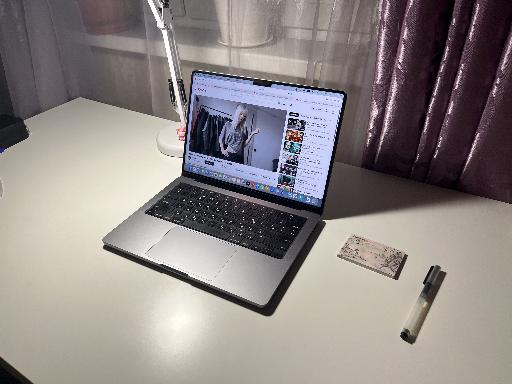youtube: (178, 85, 326, 194)
